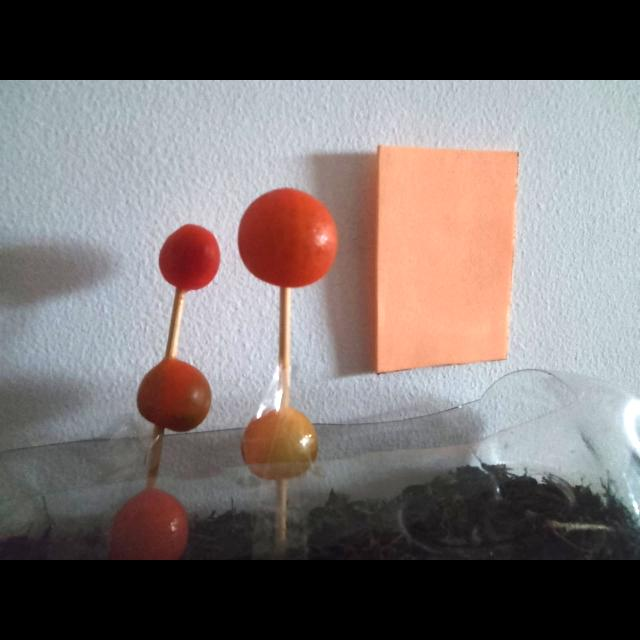card: (375, 146, 518, 373)
fruit_maturation: (241, 407, 318, 481)
fully_grown: (238, 188, 337, 288), (110, 488, 189, 560), (137, 358, 211, 432), (158, 224, 220, 291)
